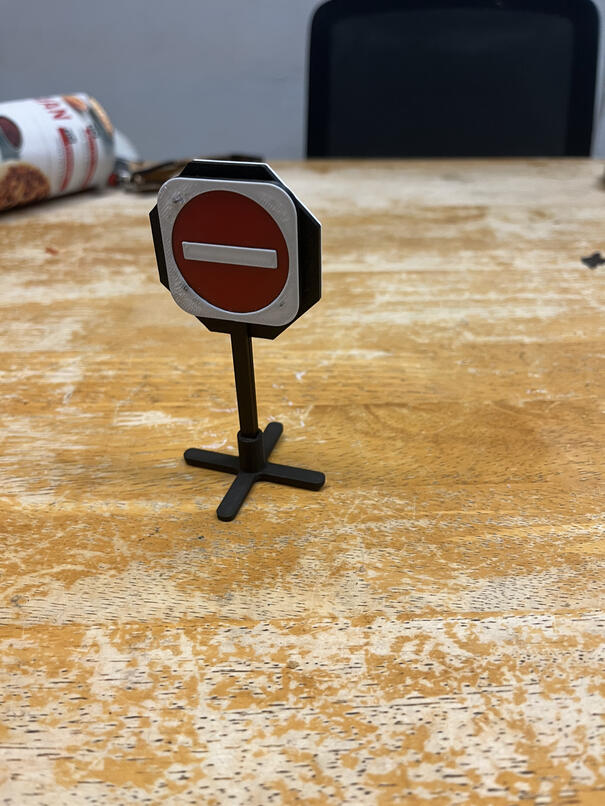sign_noentry: (153, 176, 311, 327)
